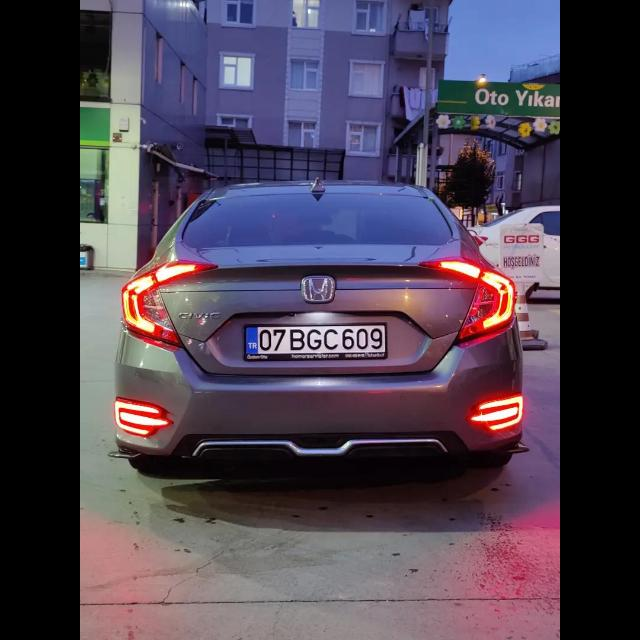Plaka: (247, 327, 387, 355)
